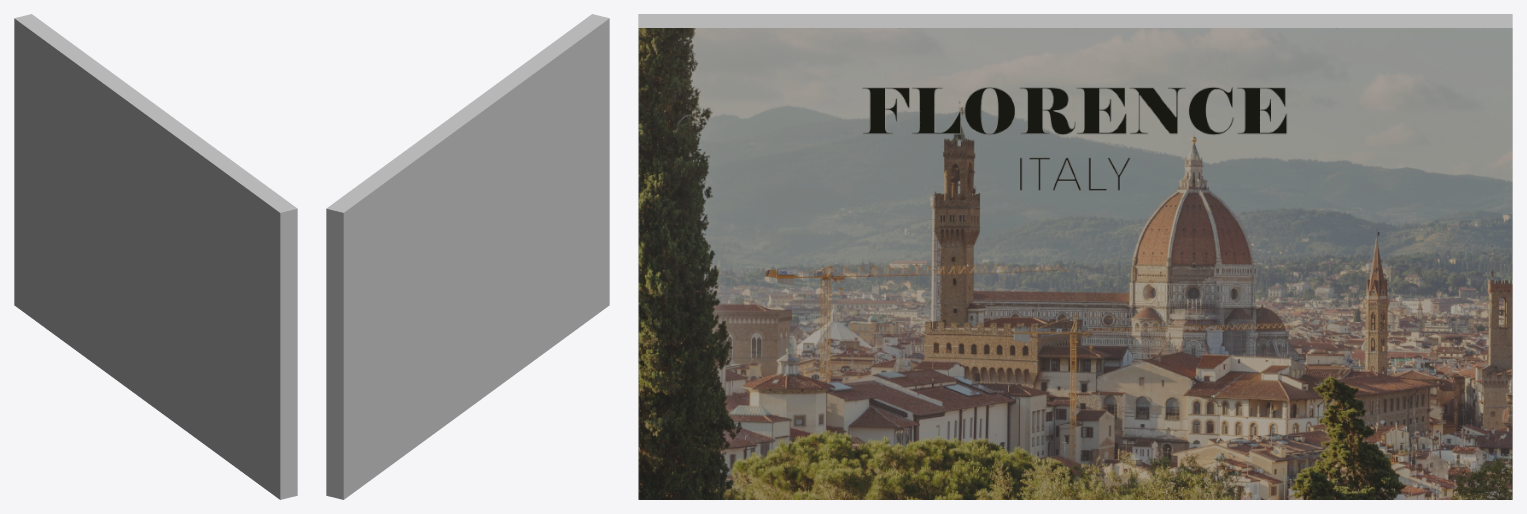
File: Postcard_Italy.dae
3 views of the same model, side by side, from view 1: azimuth 30°, elevation 25°; view 2: azimuth 150°, elevation 25°; view 3: azimuth 270°, elevation 25° (orthographic). The views are drawn at different scales.
Visible parts, largest first — view 1: Postcard_Italy; view 2: Postcard_Italy; view 3: Postcard_Italy.
Boxes of the visible parts, x1,y1,x2,y2 form: Postcard_Italy: (14,14,297,499); Postcard_Italy: (326,14,609,499); Postcard_Italy: (638,14,1512,499).
Bounding box in the file's own units: 0.0989 × 1.55 × 2.6.
3 materials, 1 textured.
